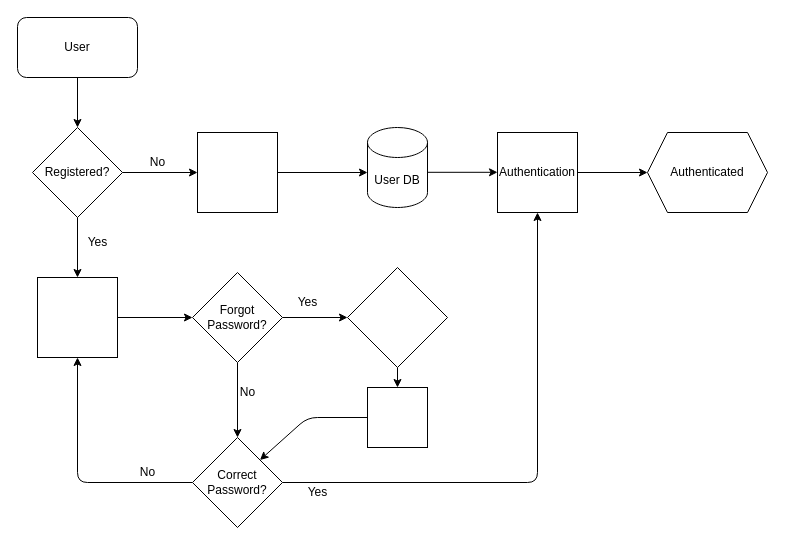
Image size: 785x545. Some labels were removed from this diagram. The centre of each missing label's shape, as x and y in pixels:
Login: point (77, 317)
New Password: point (397, 417)
Request New Password: point (397, 317)
Sign Up: point (237, 172)
